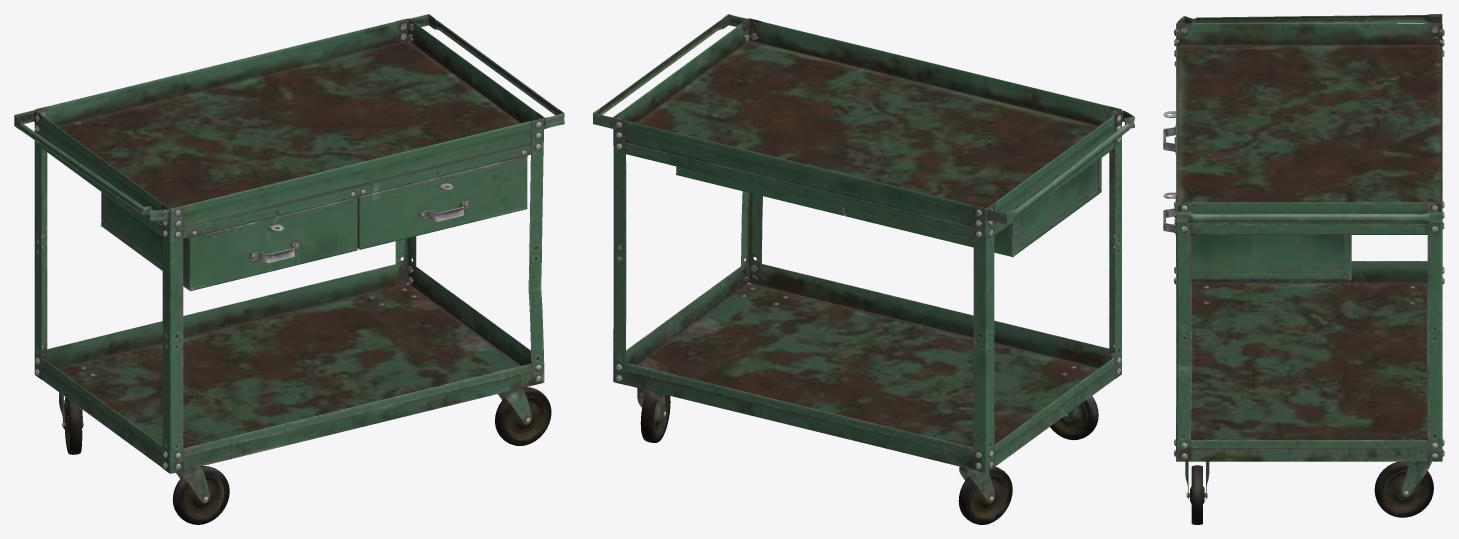
The model's file is tool_cart.glb.
The picture shows the model from 3 angles, left to right: view 1: azimuth 30°, elevation 25°; view 2: azimuth 150°, elevation 25°; view 3: azimuth 270°, elevation 25°; orthographic projection. The views are drawn at different scales.
Visible parts, largest first — view 1: tool_cart; view 2: tool_cart; view 3: tool_cart.
Part boxes in pixels (bbox=[...]): tool_cart: bbox=[14, 14, 564, 524]; tool_cart: bbox=[593, 14, 1134, 524]; tool_cart: bbox=[1163, 14, 1444, 524].
Bounding box in the file's own units: 1.27 × 0.9646 × 0.7537.
Materials: 1 (1 with a texture image).
